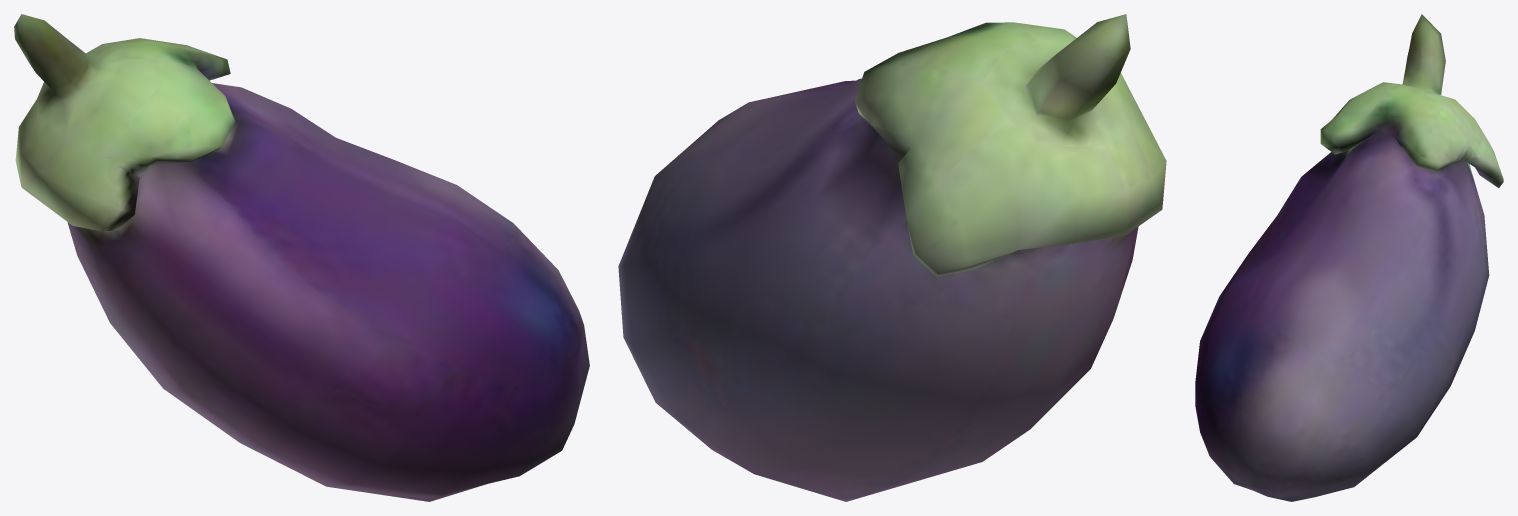
File: eggplant.glb
3 views of the same model, side by side, from view 1: azimuth 30°, elevation 25°; view 2: azimuth 150°, elevation 25°; view 3: azimuth 270°, elevation 25° (orthographic). The views are drawn at different scales.
Visible parts, largest first — view 1: Eggplant; view 2: Eggplant; view 3: Eggplant.
Boxes of the visible parts, x1,y1,x2,y2 form: Eggplant: (14, 14, 589, 501); Eggplant: (618, 14, 1166, 501); Eggplant: (1195, 14, 1503, 501).
Size of the model in its own units: 1.81 by 1.83 by 1.43.
1 material, 1 textured.
